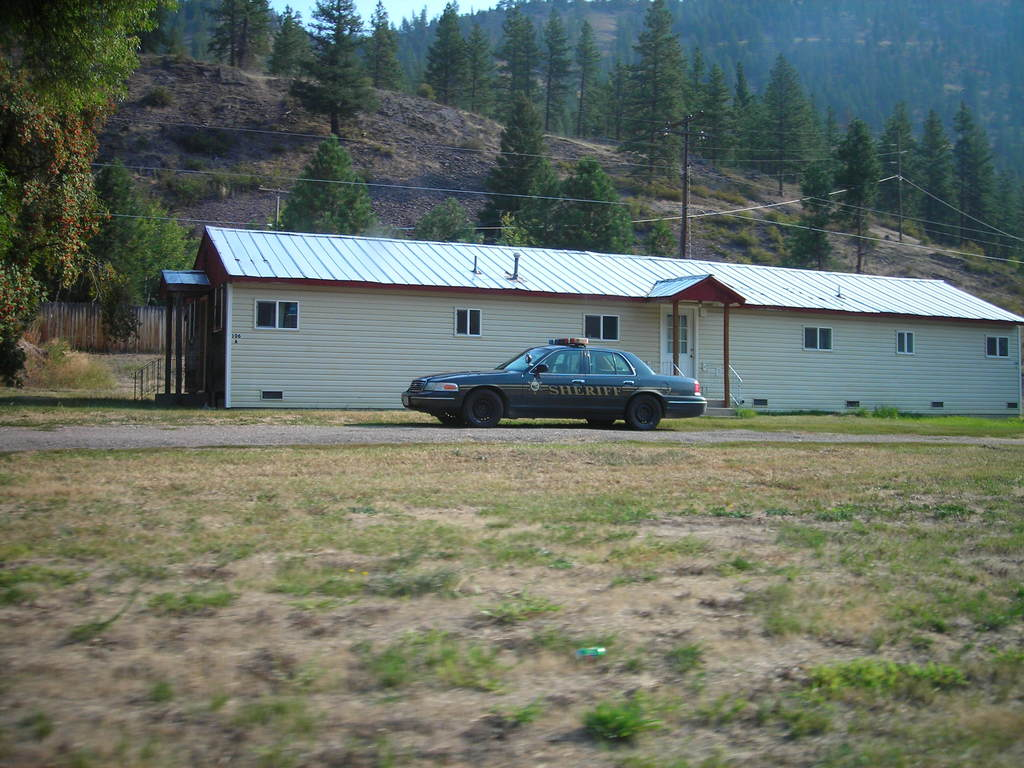cars: (414, 329, 692, 426)
